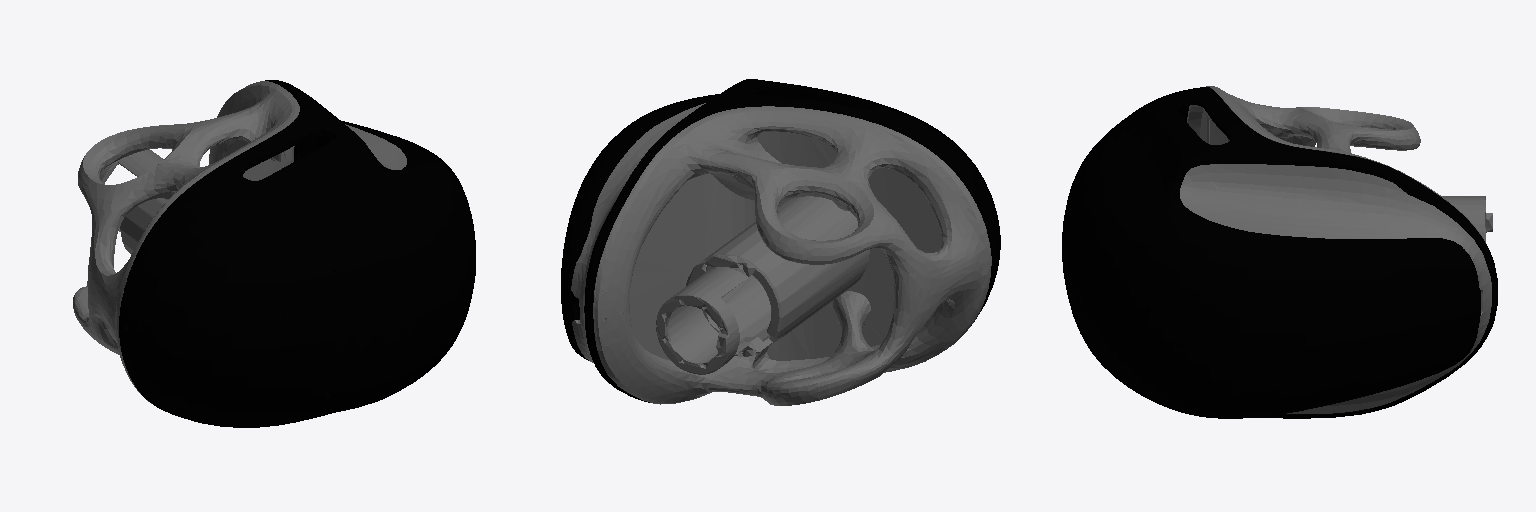
File: head_yaw_link.obj
The picture shows the model from 3 angles: view 1: azimuth 30°, elevation 25°; view 2: azimuth 150°, elevation 25°; view 3: azimuth 270°, elevation 25°; orthographic projection.
Parts seen in each view (by area): view 1: head_yaw_link; view 2: head_yaw_link; view 3: head_yaw_link.
Boxes of the visible parts, <box> form: head_yaw_link: <box>73,80,475,427</box>; head_yaw_link: <box>561,79,1000,405</box>; head_yaw_link: <box>1062,86,1497,418</box>.
Size of the model in its own units: 0.2133 by 0.1529 by 0.2236.